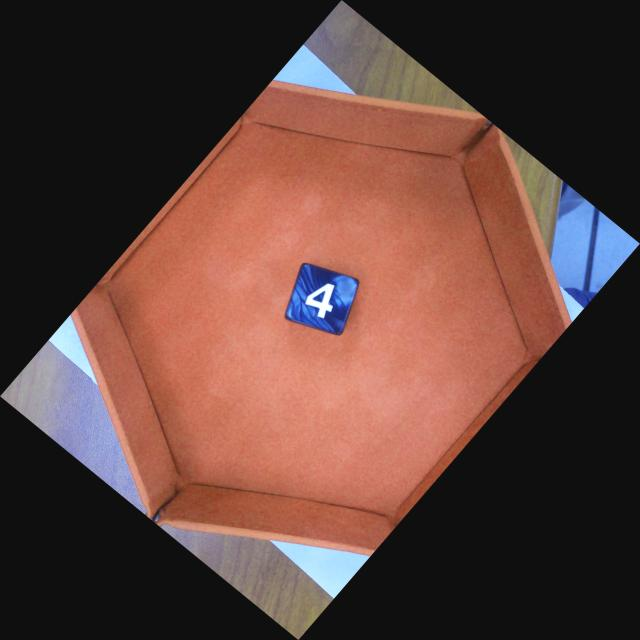dice: (285, 261, 358, 341)
